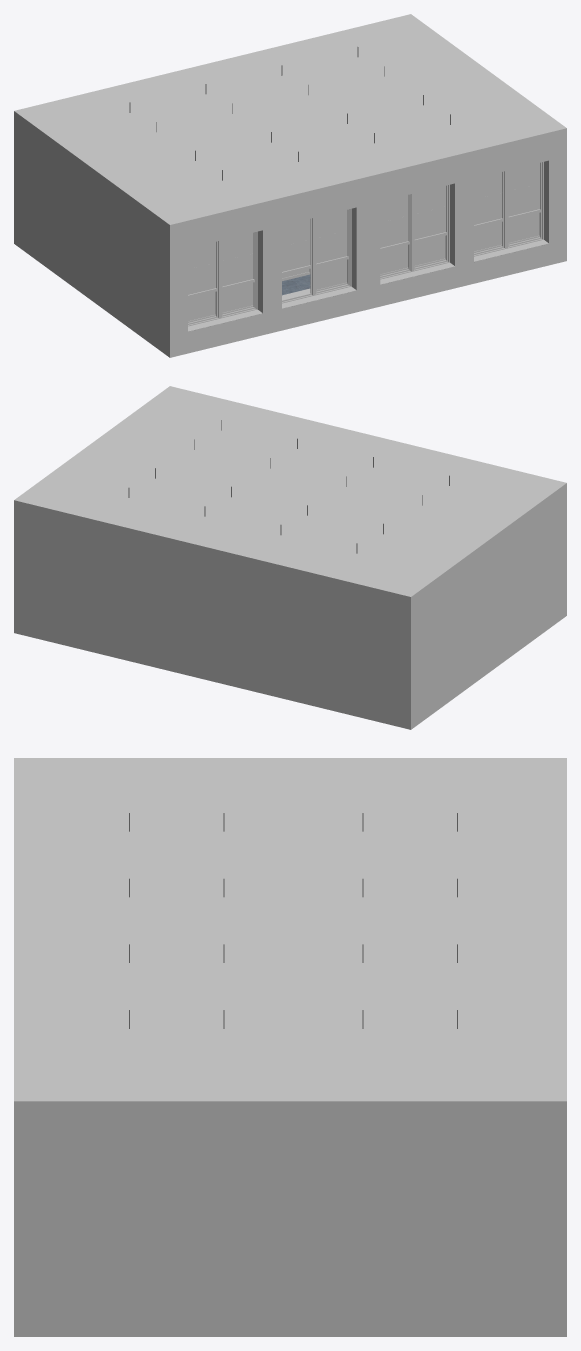
File: classroom.fbx
The picture shows the model from 3 angles, top to bottom: view 1: azimuth 30°, elevation 25°; view 2: azimuth 150°, elevation 25°; view 3: azimuth 270°, elevation 25°; orthographic projection. The views are drawn at different scales.
Visible parts, largest first — view 1: room_1, school_window.003, school_window, school_window.002, school_window.001, room, windowsill; view 2: room_1; view 3: room_1.
Part boxes in pixels (x1=…): room_1: x1=14, y1=14, x2=566, y2=357; school_window.003: x1=474, y1=162, x2=543, y2=256; school_window: x1=188, y1=231, x2=257, y2=326; school_window.002: x1=380, y1=184, x2=449, y2=279; school_window.001: x1=282, y1=208, x2=351, y2=303; room: x1=257, y1=160, x2=548, y2=313; windowsill: x1=188, y1=239, x2=548, y2=331; room_1: x1=14, y1=386, x2=566, y2=729; room_1: x1=14, y1=758, x2=566, y2=1336.
Bounding box in the file's own units: 1045 × 360 × 711.
